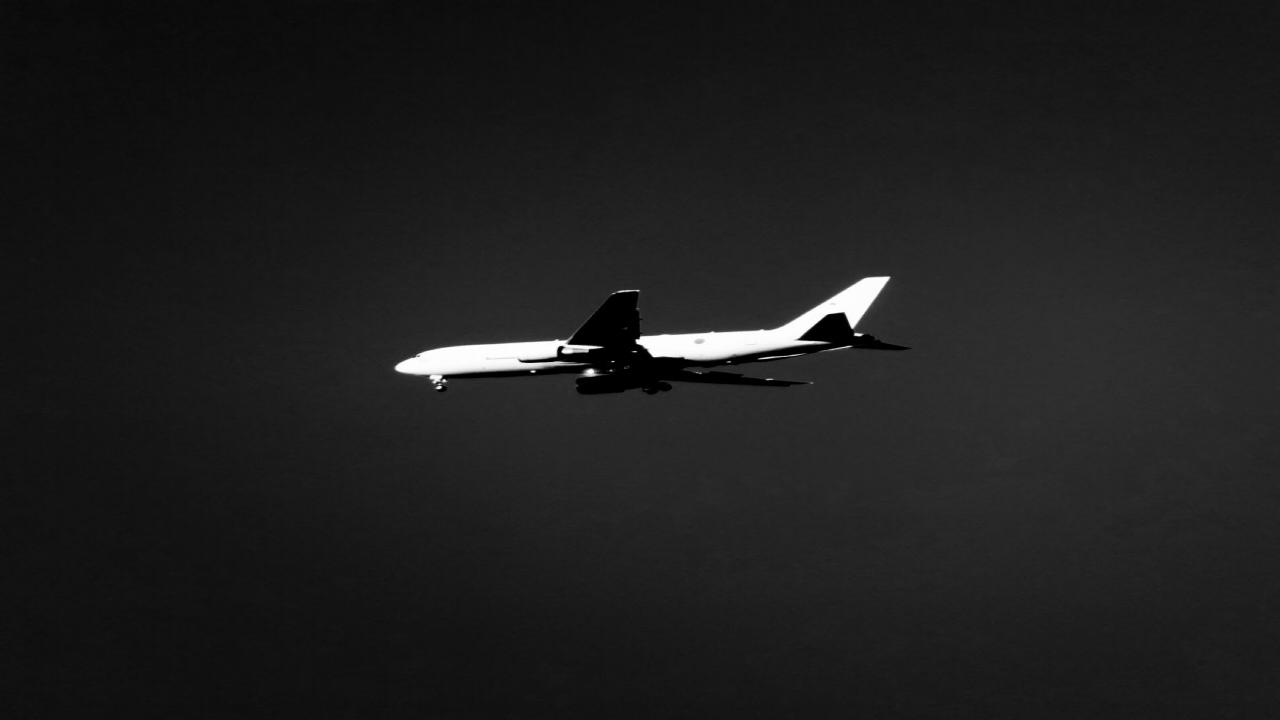Airplane: (364, 263, 920, 404)
